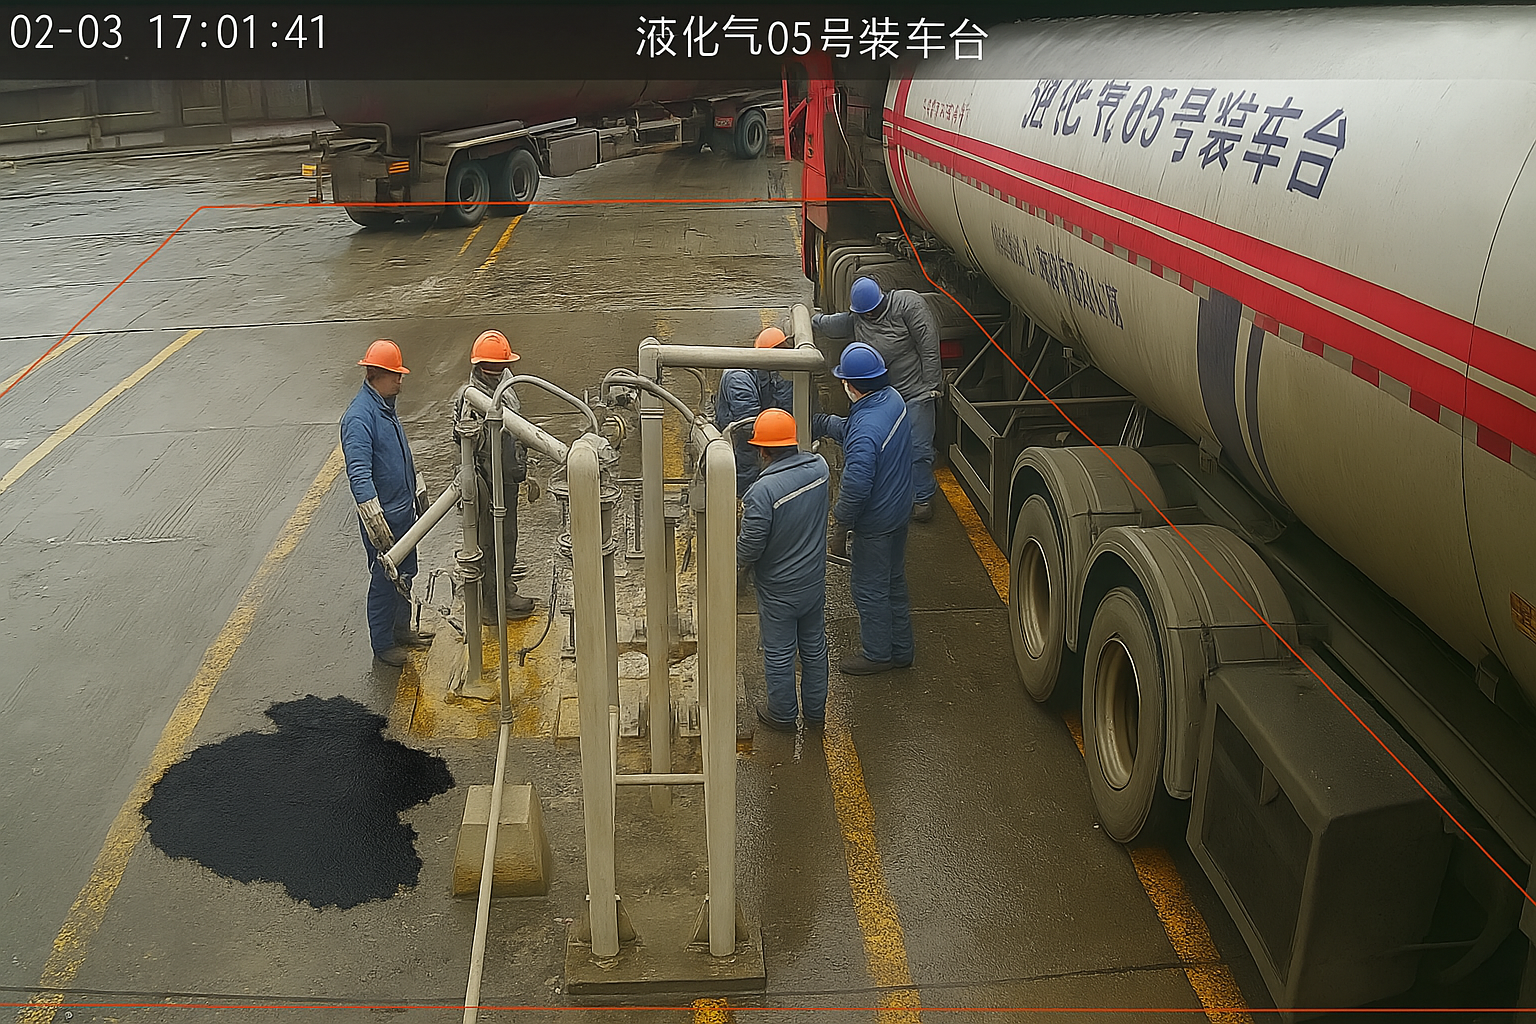oil_leakage: (135, 674, 464, 926)
